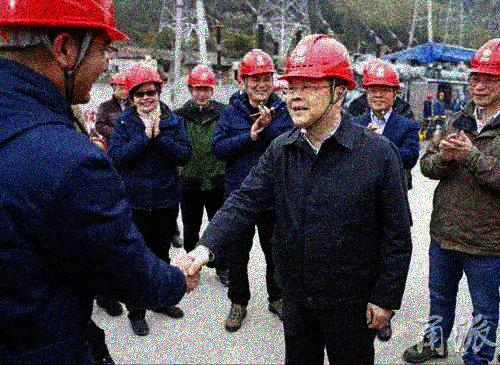helmet: (1, 1, 128, 110), (277, 33, 353, 129), (466, 36, 500, 104), (237, 47, 278, 103), (360, 59, 400, 110), (125, 61, 163, 113), (187, 64, 217, 104), (109, 70, 129, 99)
